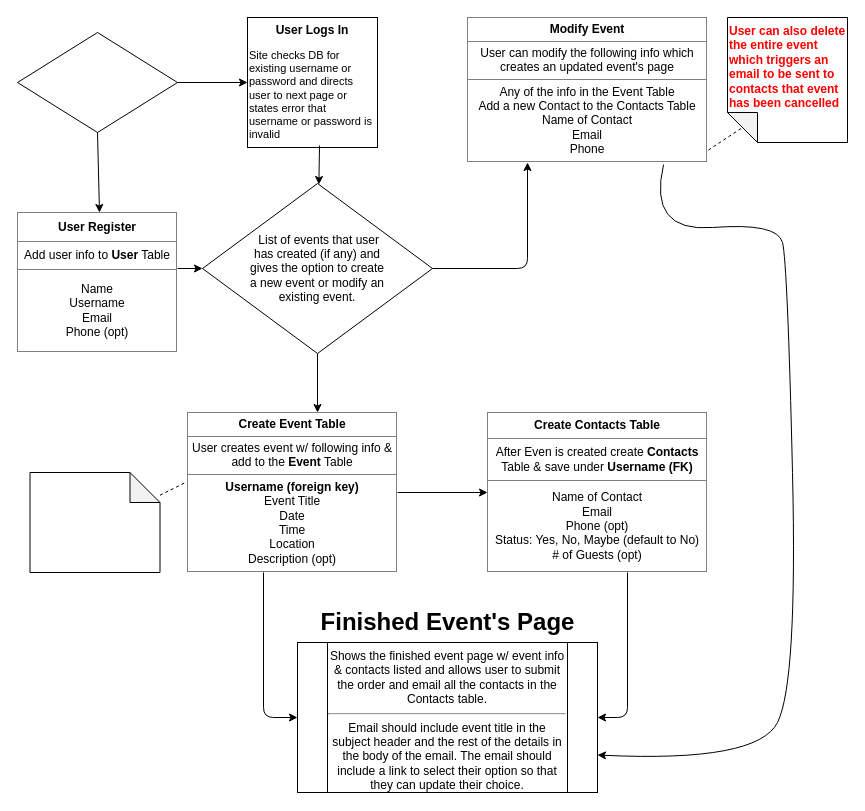
Image size: 865x811. Some labels were removed from this diagram. Here are the shapes that lost their labels. From the top down, the centre of each, then its label:
At point (97, 82): "User Hits Landing Page".
At point (94, 522): "Username should be pulled from the User Table".
